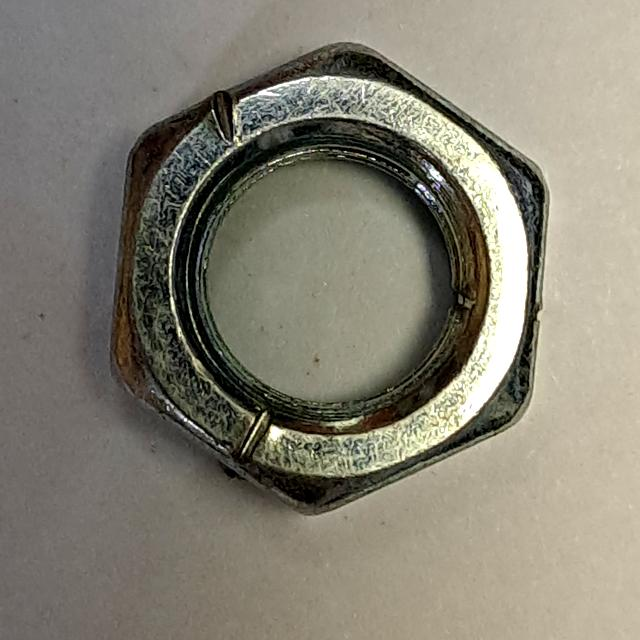Scratches: (96, 29, 563, 545)
